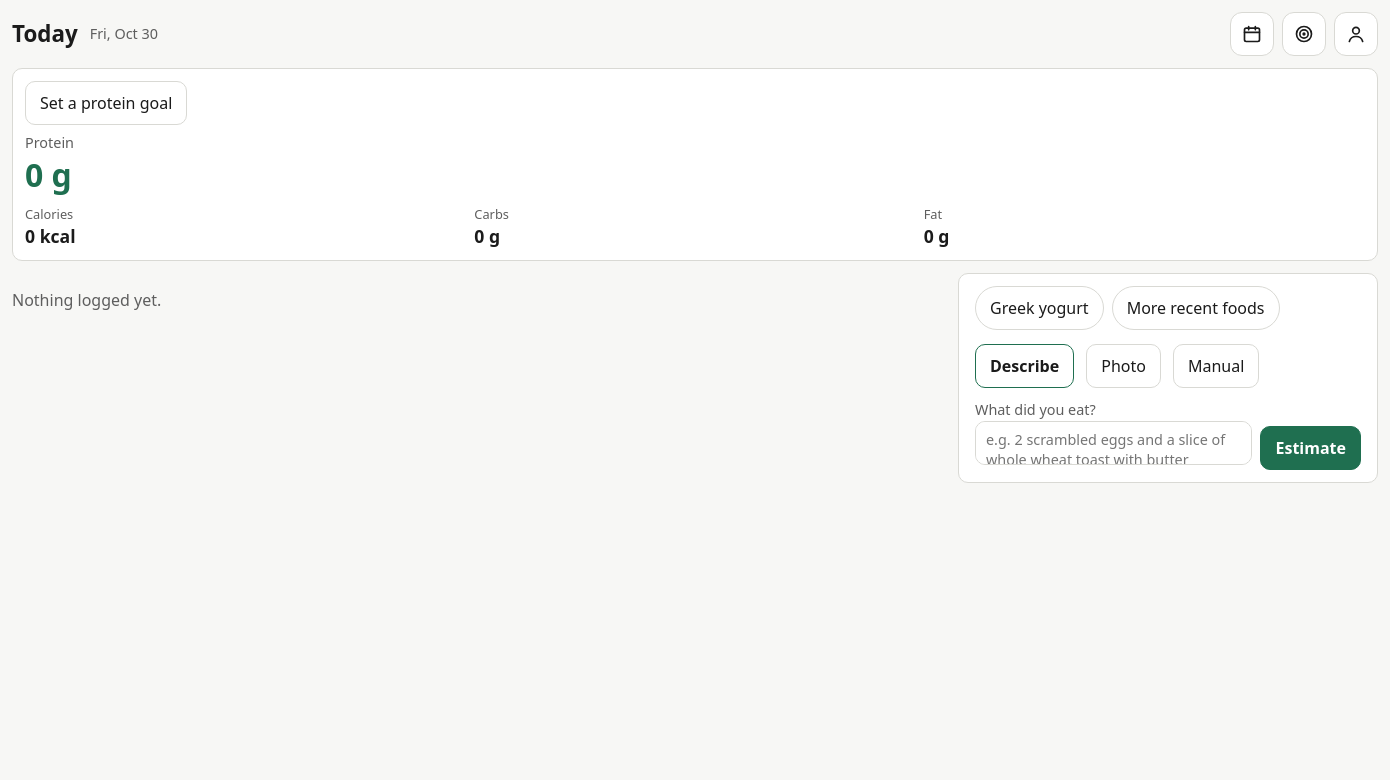
Test: QuickPicks › (e) Cancel closes the re-log form without logging
This screenshot has width=1390, height=780.
Check: the element "recent foods" is shown, box [975,286,1280,330]
Click the button "Greek yogurt" at coordinates (1039, 308), box [975,286,1104,330]
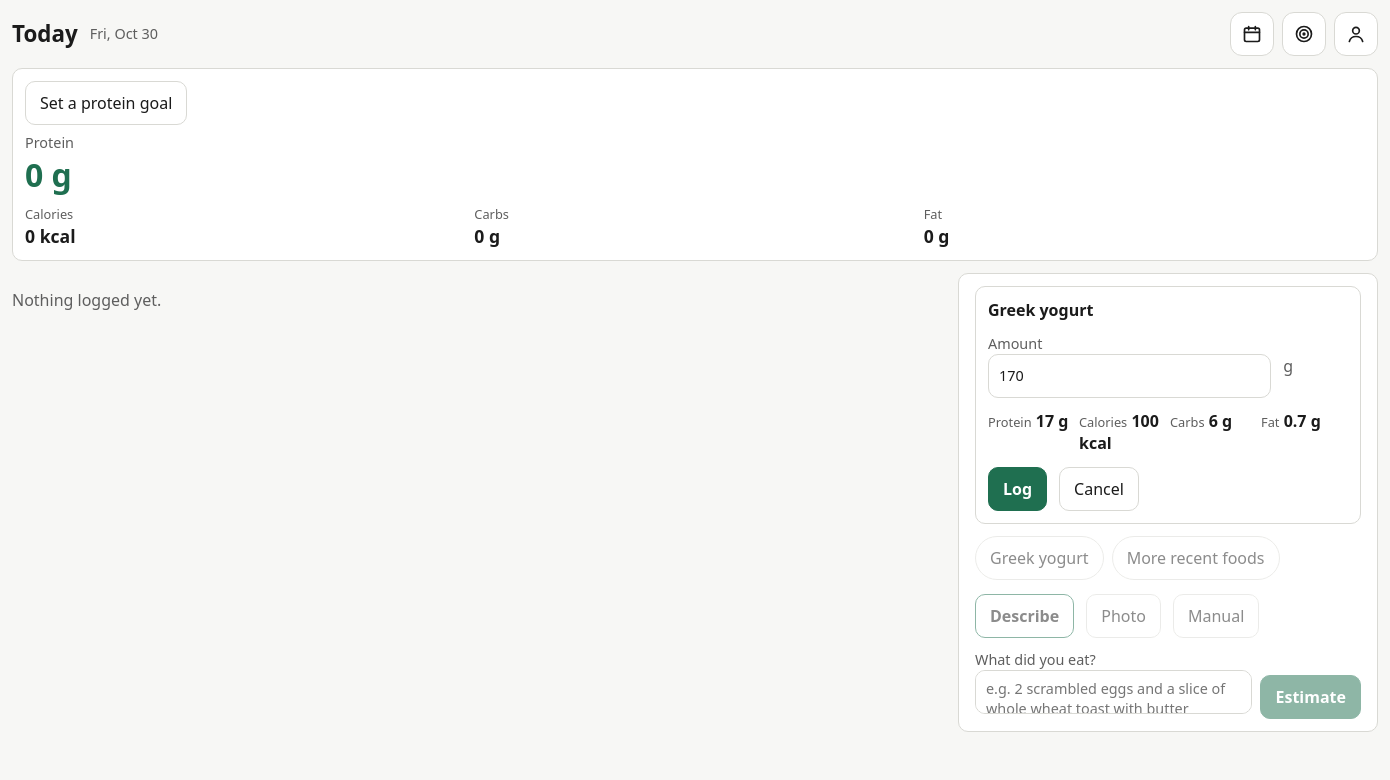
Click the button "Cancel" at coordinates (1099, 489), box [1059,467,1139,511]
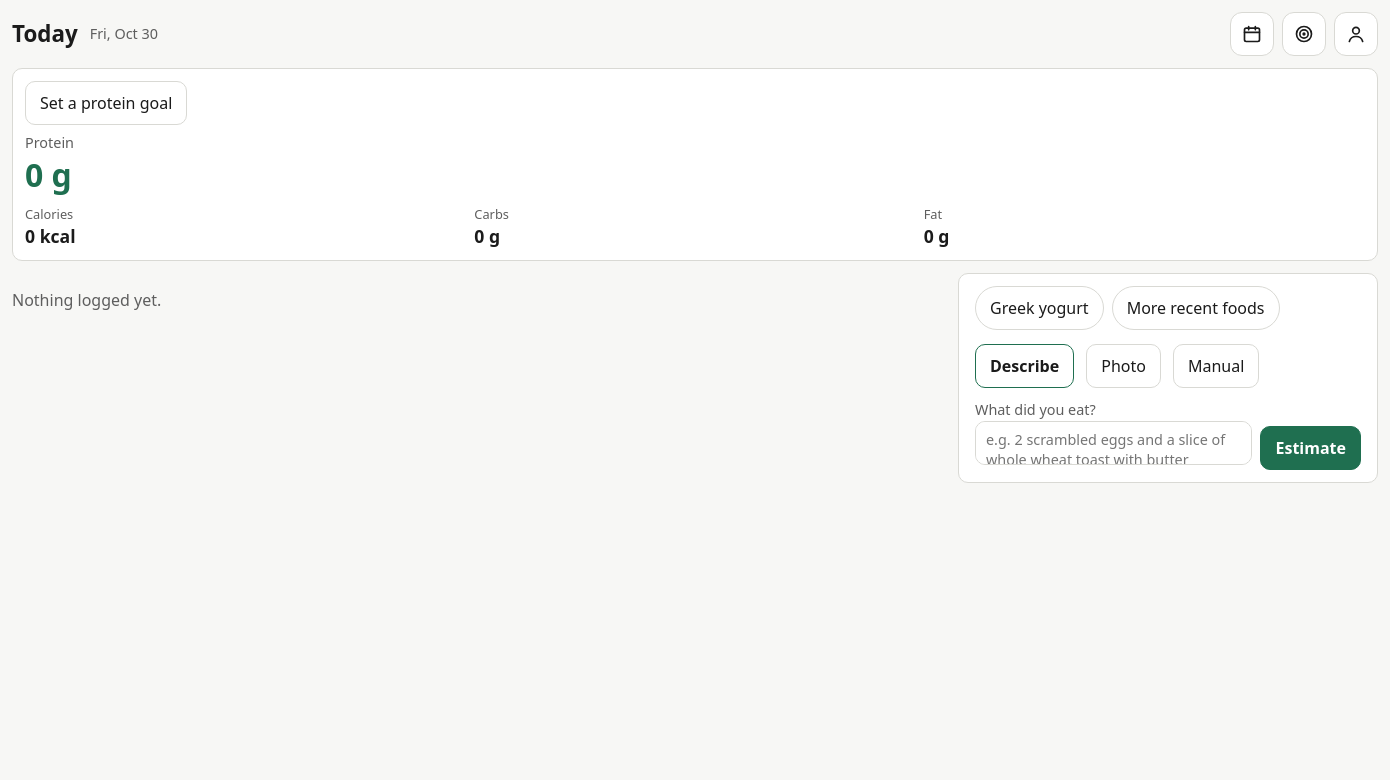
Check: the label "Amount" is gone
